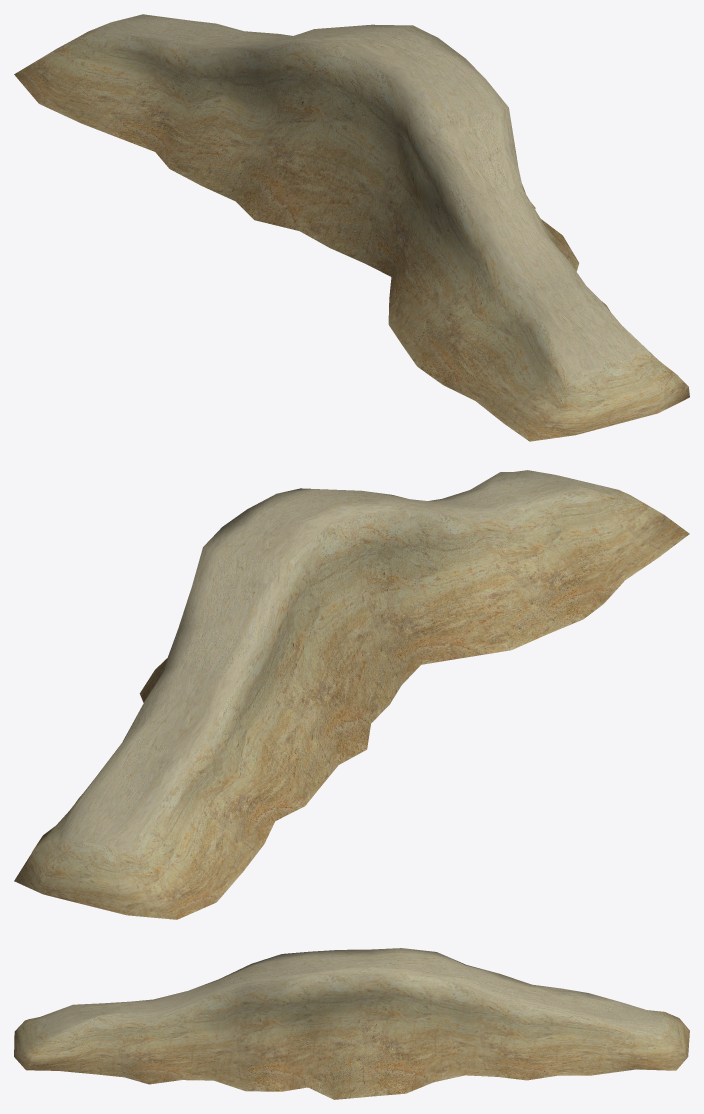
Rendered from rock_beach_spine_a1_l0.fbx.
The picture shows the model from 3 angles, top to bottom: view 1: azimuth 30°, elevation 25°; view 2: azimuth 150°, elevation 25°; view 3: azimuth 270°, elevation 25°; orthographic projection. The views are drawn at different scales.
Parts seen in each view (by area): view 1: mesh_node; view 2: mesh_node; view 3: mesh_node.
Part boxes in pixels (x1,y1,x2,y2): mesh_node: (14, 14, 689, 441); mesh_node: (14, 470, 689, 919); mesh_node: (14, 948, 689, 1099).
Bounding box in the file's own units: 8.1 × 4.93 × 27.62.
